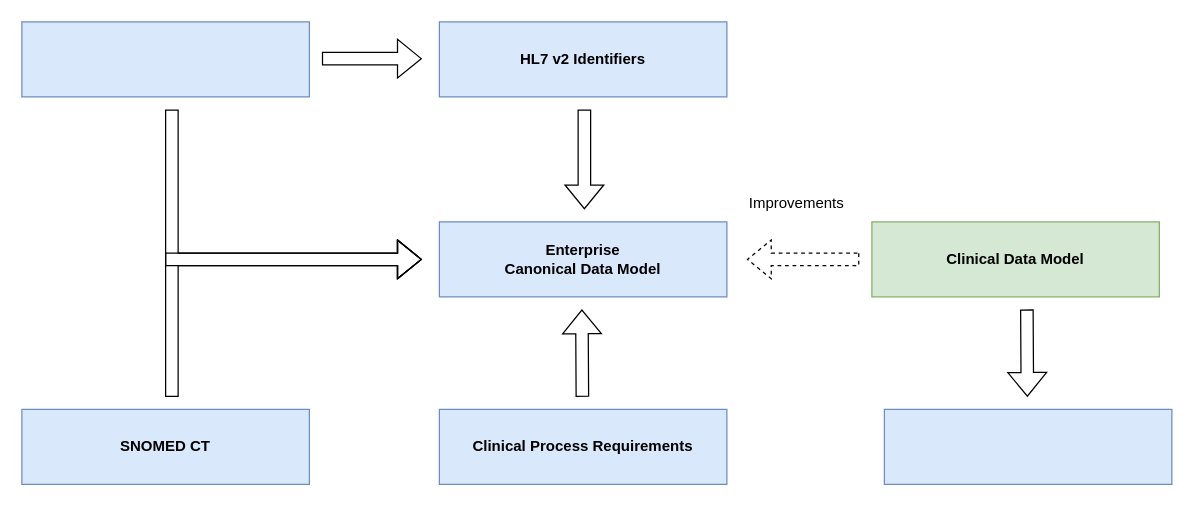
Image size: 1194x506. Some labels were removed from this diagram. Here are the shapes that lost their labels. From the top down, the centre of each, then its label:
At pixel 165 59: "NHS Data Model and Dictionary".
At pixel 1027 446: "PDF Attachments".
